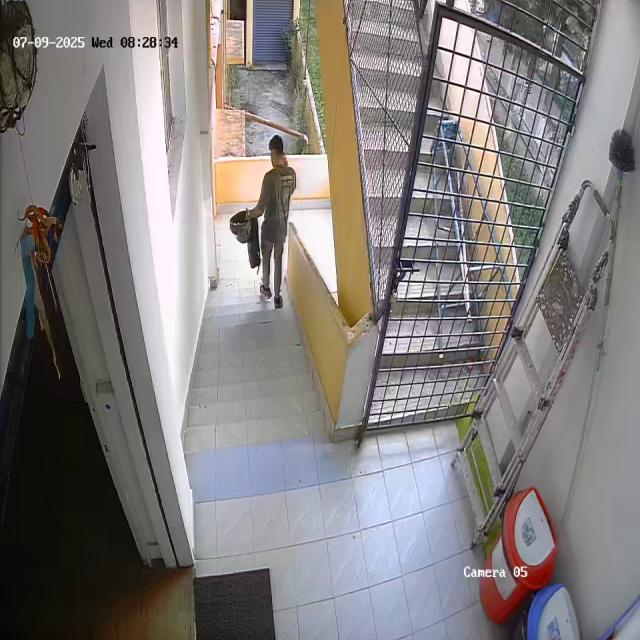person: (256, 134, 296, 306)
